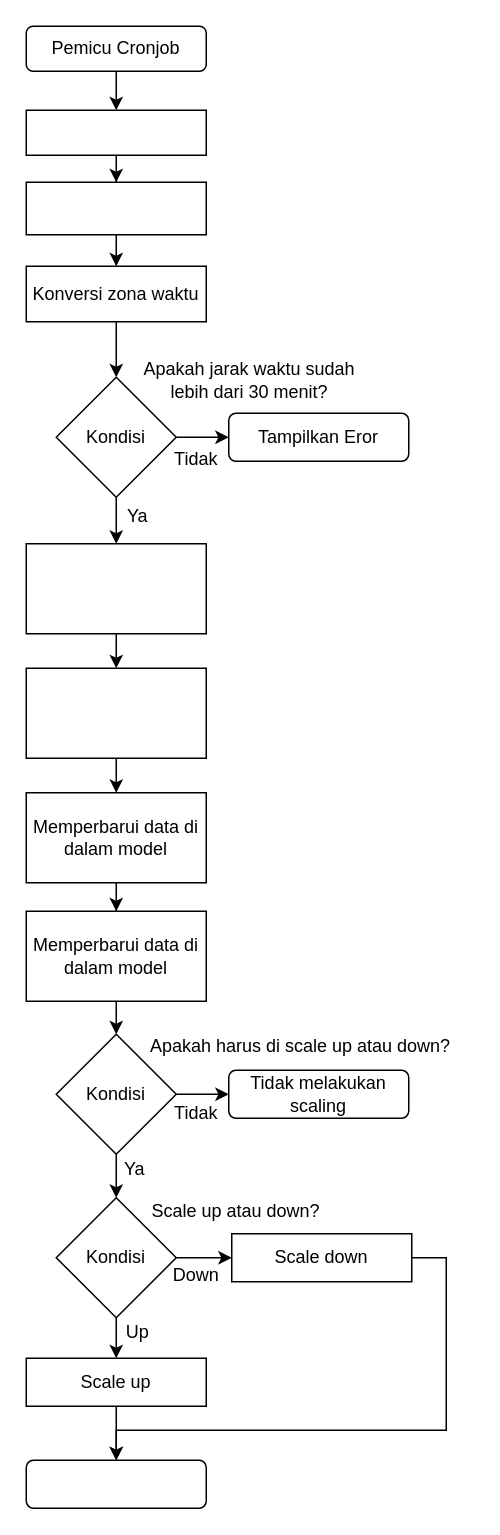
This 500x1535 diagram has some shape labels left out. The shapes that lost their labels are listed below. From the top down, each one's centre as x and y in pixels, then its label:
the point at 115,132: Load Model SARIMA
the point at 115,208: Baca metadata model
the point at 115,588: Ambil data di Prometheus
the point at 115,712: Masukkan data ke data.csv
the point at 115,1483: Selesai
